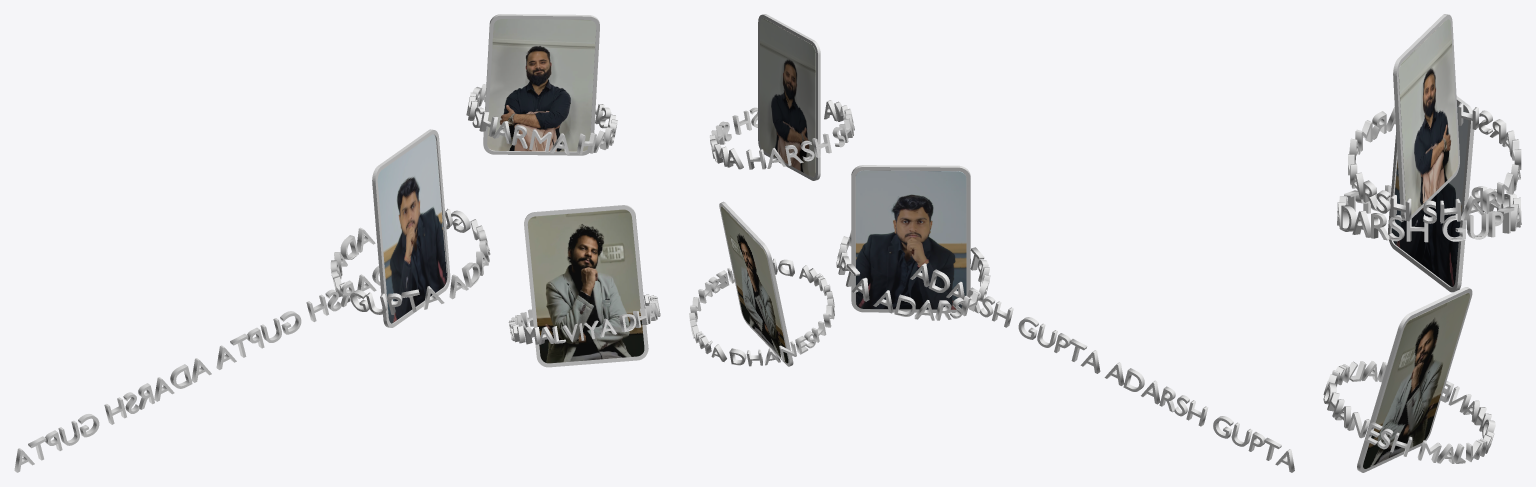
3 renders of one model, left to right at view 1: azimuth 30°, elevation 25°; view 2: azimuth 150°, elevation 25°; view 3: azimuth 270°, elevation 25°, orthographic. The views are drawn at different scales.
Parts seen in each view (by area): view 1: BG_image.004, BG_image.002, BG_image.003, Text.002, Text.001, Text, Text.003, Outline stroke.004, Outline stroke.003, Outline stroke.002; view 2: BG_image.003, BG_image.002, Text.002, BG_image.004, Text.003, Text, Text.001, Outline stroke.003, Outline stroke.002, Outline stroke.004; view 3: BG_image.002, BG_image.004, Text, Text.003, Text.001, BG_image.003, Outline stroke.002, Outline stroke.004, Outline stroke.003.
Part boxes in pixels (x1,y1,x2,y2): BG_image.004: [528, 209, 644, 363]; BG_image.002: [487, 19, 596, 151]; BG_image.003: [377, 134, 446, 323]; Text.002: [14, 265, 380, 472]; Text.001: [330, 208, 490, 314]; Text: [466, 84, 617, 154]; Text.003: [508, 294, 660, 344]; Outline stroke.004: [524, 205, 648, 367]; Outline stroke.003: [372, 129, 450, 327]; Outline stroke.002: [483, 14, 599, 155]; BG_image.003: [855, 170, 966, 309]; BG_image.002: [760, 18, 815, 177]; Text.002: [910, 263, 1294, 472]; BG_image.004: [721, 206, 788, 363]; Text.003: [689, 258, 834, 366]; Text: [709, 100, 854, 169]; Text.001: [836, 230, 990, 320]; Outline stroke.003: [851, 165, 970, 312]; Outline stroke.002: [758, 14, 820, 180]; Outline stroke.004: [719, 201, 793, 366]; BG_image.002: [1398, 19, 1458, 214]; BG_image.004: [1363, 293, 1469, 468]; Text: [1348, 103, 1521, 223]; Text.003: [1323, 361, 1495, 463]; Text.001: [1337, 185, 1521, 242]; BG_image.003: [1391, 104, 1468, 286]; Outline stroke.002: [1393, 14, 1459, 220]; Outline stroke.004: [1357, 287, 1472, 472]; Outline stroke.003: [1388, 96, 1474, 292].
Bounding box in the file's own units: 6.37 × 3.44 × 1.51.
4 materials, 3 textured.
